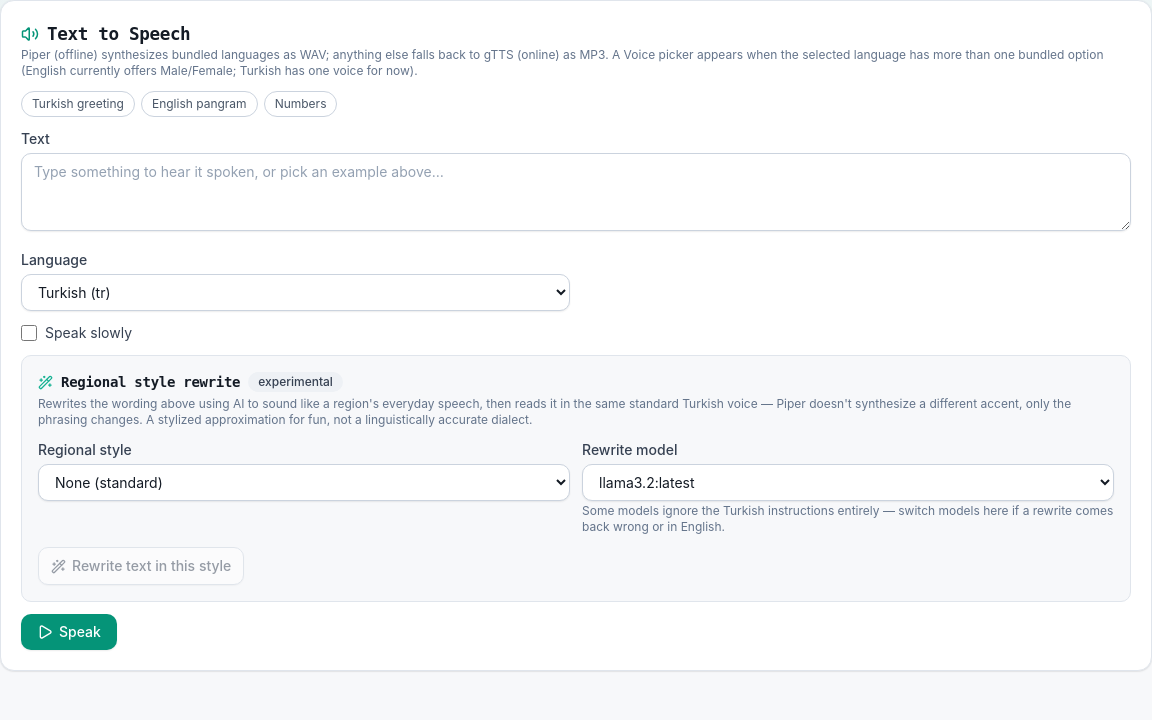
Test: TextToSpeechCard rewrite › rewrites the text and shows Undo, using the correct model/messages
Type "Merhaba, nasılsın?" into the text box labelled "Text". click: [576, 192]
box: [21,153,1131,231]
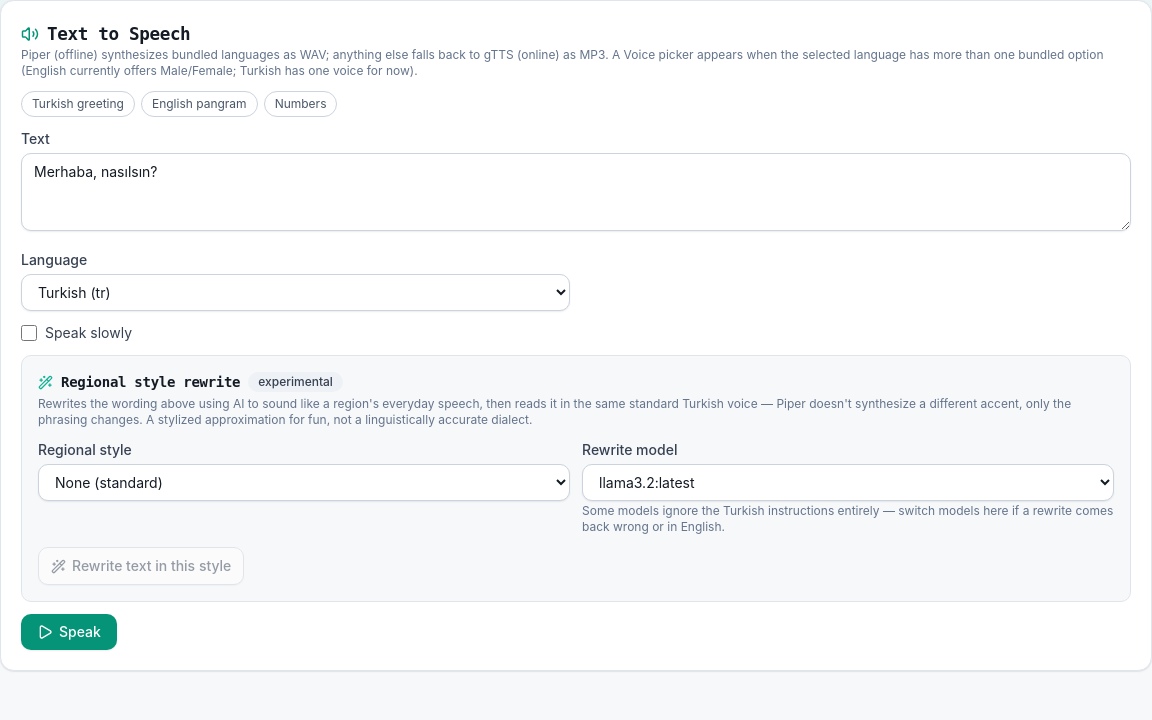
Select "Karadeniz" in the dropdown labelled "Regional style". click: [304, 483]
box: [38,464,570,501]
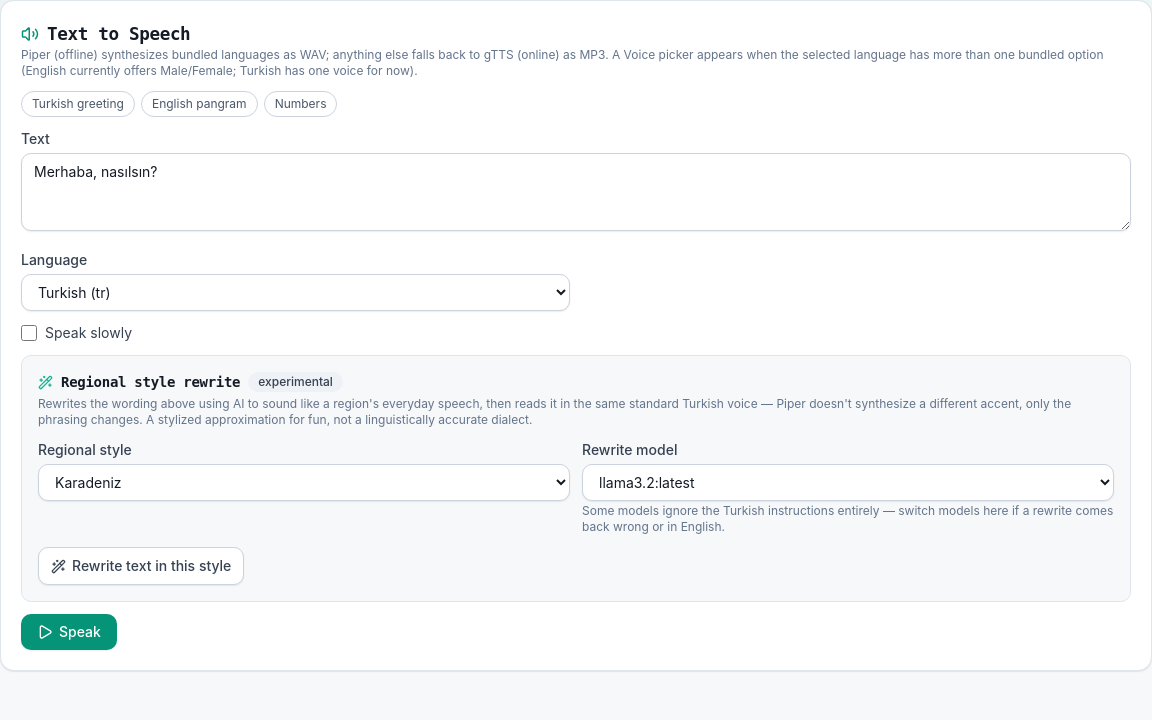
Click the button "Rewrite text in this style". click: [141, 566]
box: [38,547,244,585]
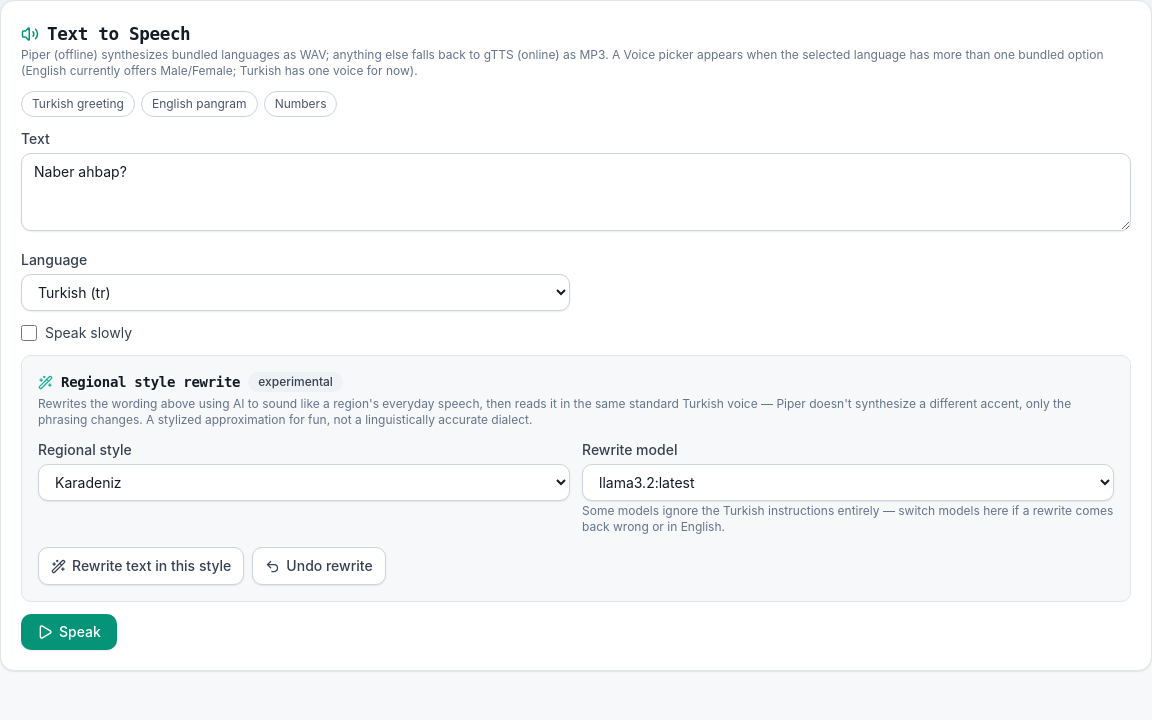
Check: the text box labelled "Text" holds "Naber ahbap?", box [21,153,1131,231]
Check: the button "Undo rewrite" is shown, box [252,547,386,585]
